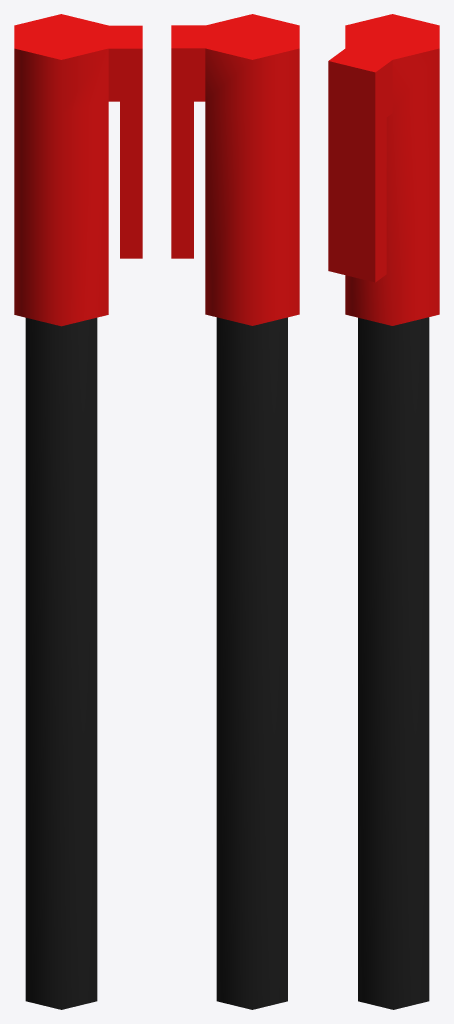
Rendered from boli_vermell.FBX.
3 views of the same model, side by side, from view 1: azimuth 30°, elevation 25°; view 2: azimuth 210°, elevation 25°; view 3: azimuth 270°, elevation 25° (orthographic).
Visible parts, largest first — view 1: Cylinder004; view 2: Cylinder004; view 3: Cylinder004.
Part boxes in pixels (x1,y1,x2,y2): Cylinder004: (14, 14, 142, 1009); Cylinder004: (171, 14, 299, 1009); Cylinder004: (328, 14, 439, 1009).
Bounding box in the file's own units: 0.5008 × 3.82 × 0.4028.
